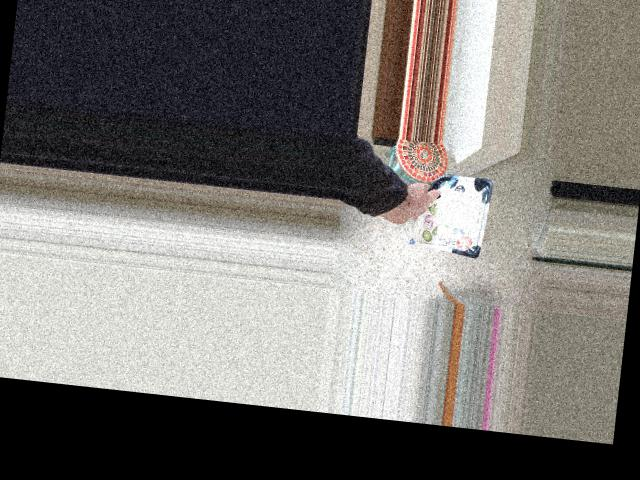cheese: (382, 166, 477, 255)
